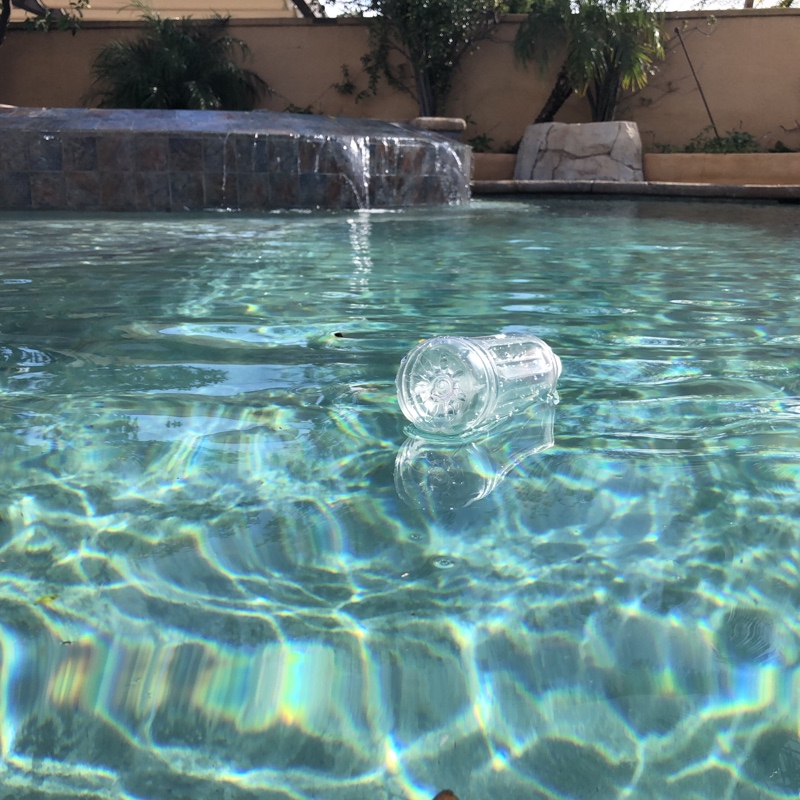Plastic Bottle: (390, 326, 564, 450)
